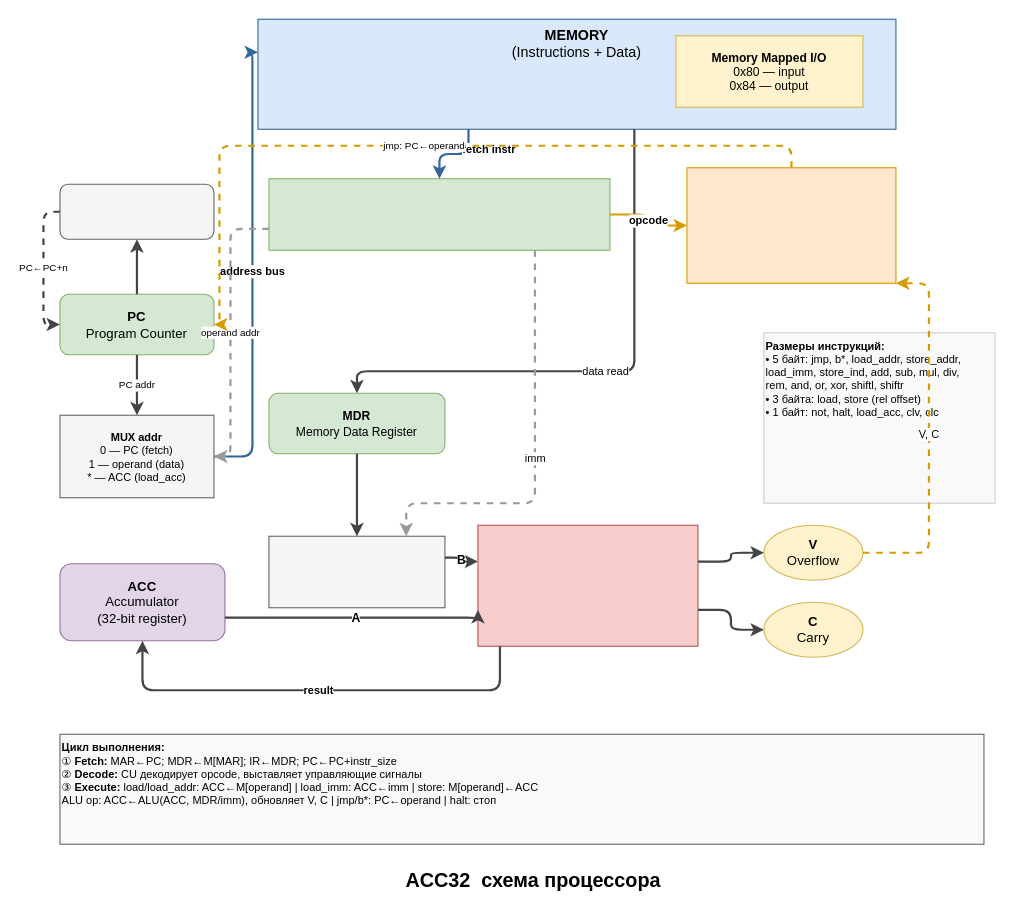
Some shapes in this 1014 by 919 pixel diagram are drawn without their labels. The shapes that lost their labels are listed below. From the top down, each one's box as (x1, y1, x2, y2) in pixels, then its label:
(59, 183, 214, 239): PC + instr_size (+5, +3, +1)
(268, 178, 610, 250): IR — Instruction Register [opcode: 8 bit | operand: 32/16 bit]
(686, 167, 896, 283): Control Unit Decode opcode Generate control signals (WE, RE, ALU op, MUX sel)
(268, 535, 445, 608): MUX B 0 — MDR (mem data) 1 — imm (IR operand)
(477, 524, 698, 646): ALU add, sub, mul, div, rem and, or, xor, not shiftl, shiftr
